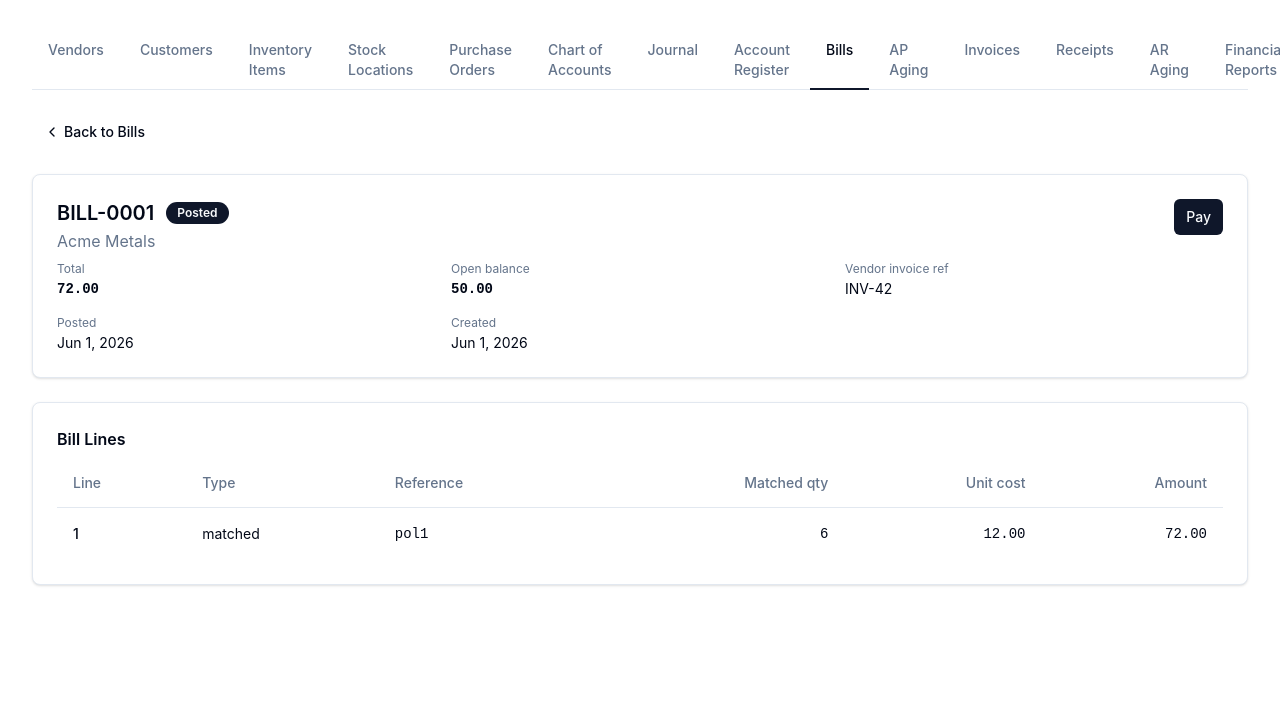
it: BillDetail screen › blocks a pay amount above the open balance
This screenshot has width=1280, height=720.
Click the button "Pay" at (1199, 217), box [1174,199,1223,235]
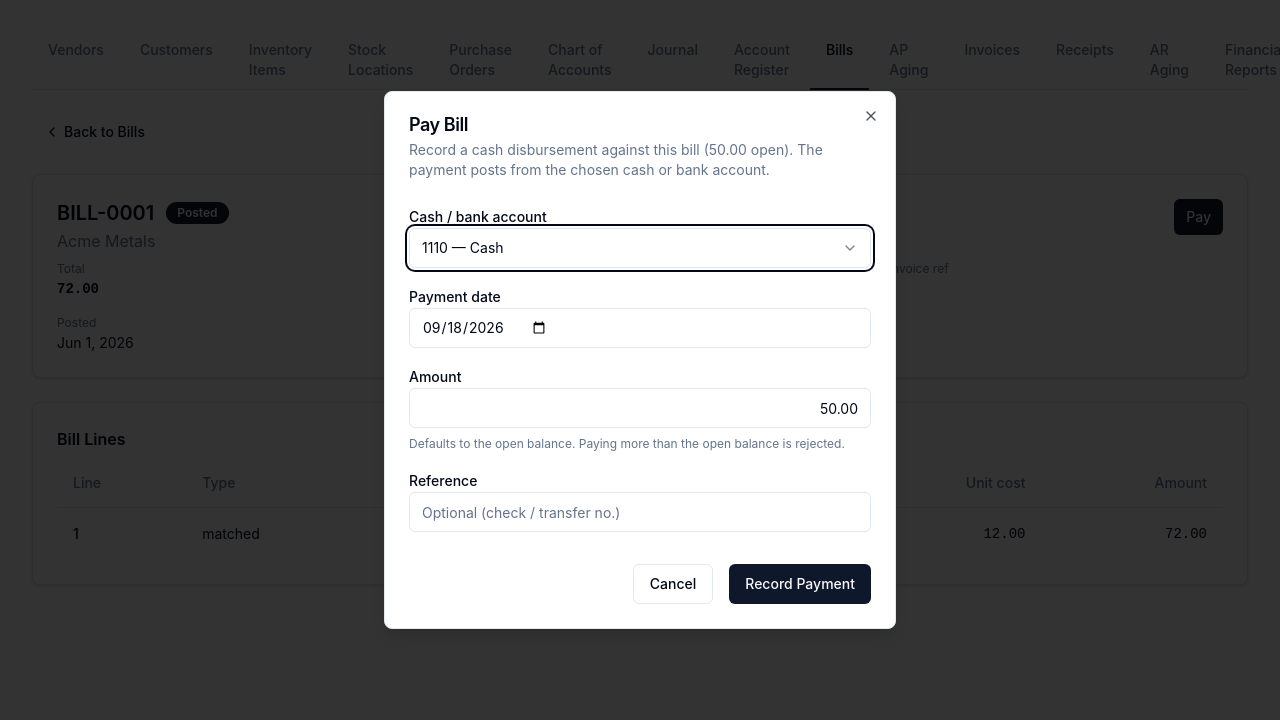
Check: the heading "Pay Bill" is shown, box [409,114,468,135]
Replace the text in the field labelled "Amount" with "999.00" at (640, 408), box [409,388,871,428]
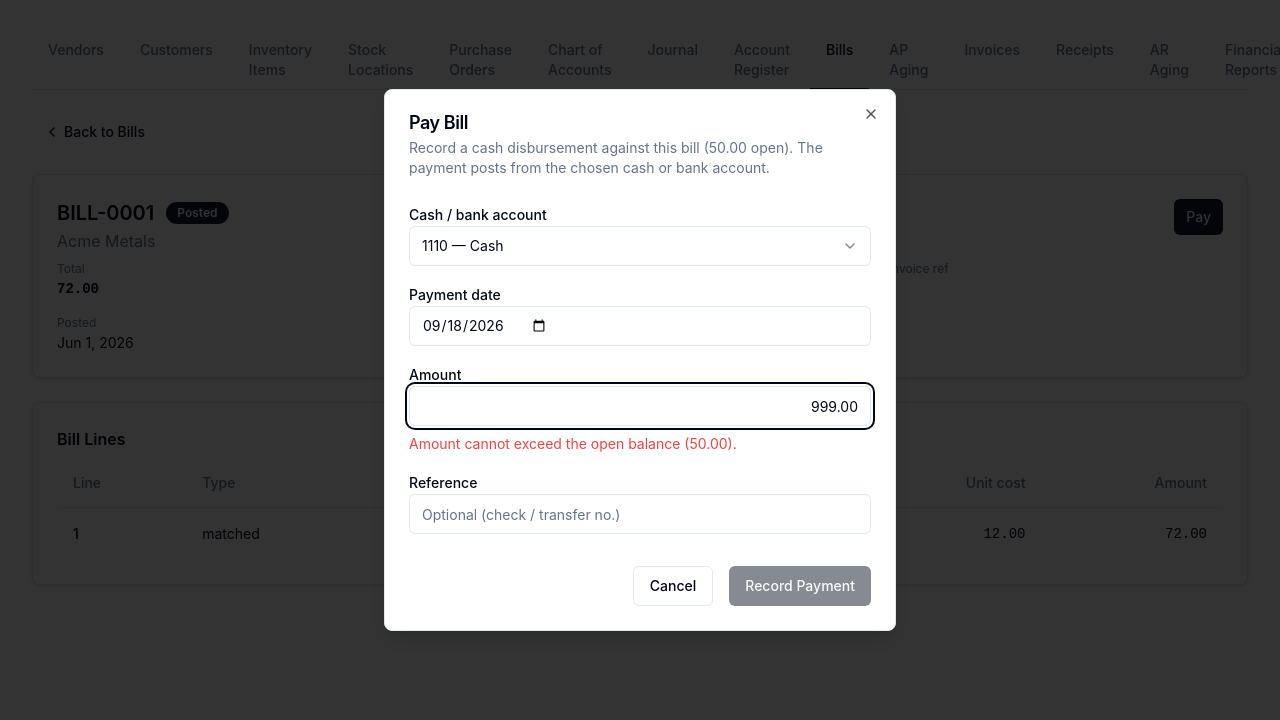
Check: the button "Record Payment" is disabled, box [729,566,871,606]
Check: the text "Amount cannot exceed the open balance (50.00)." is shown, box [409,435,737,452]
